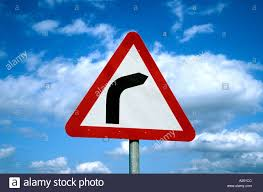Bend_to_right: (59, 30, 198, 144)
